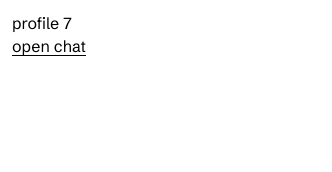
renderWithProviders › renders at a route pattern with params and lets links navigate to extra routes
Check: the text "profile 7" is shown, box 12,13 -> 72,33
What coordinates should you click on to do the following:
click the link "open chat"
I would click on:
 (49, 46)
Its box is 12,36 -> 86,56.
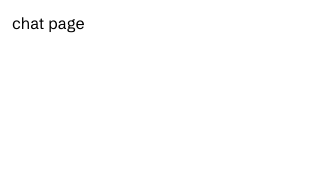
Check: the text "chat page" is shown, box 12,13 -> 85,33
